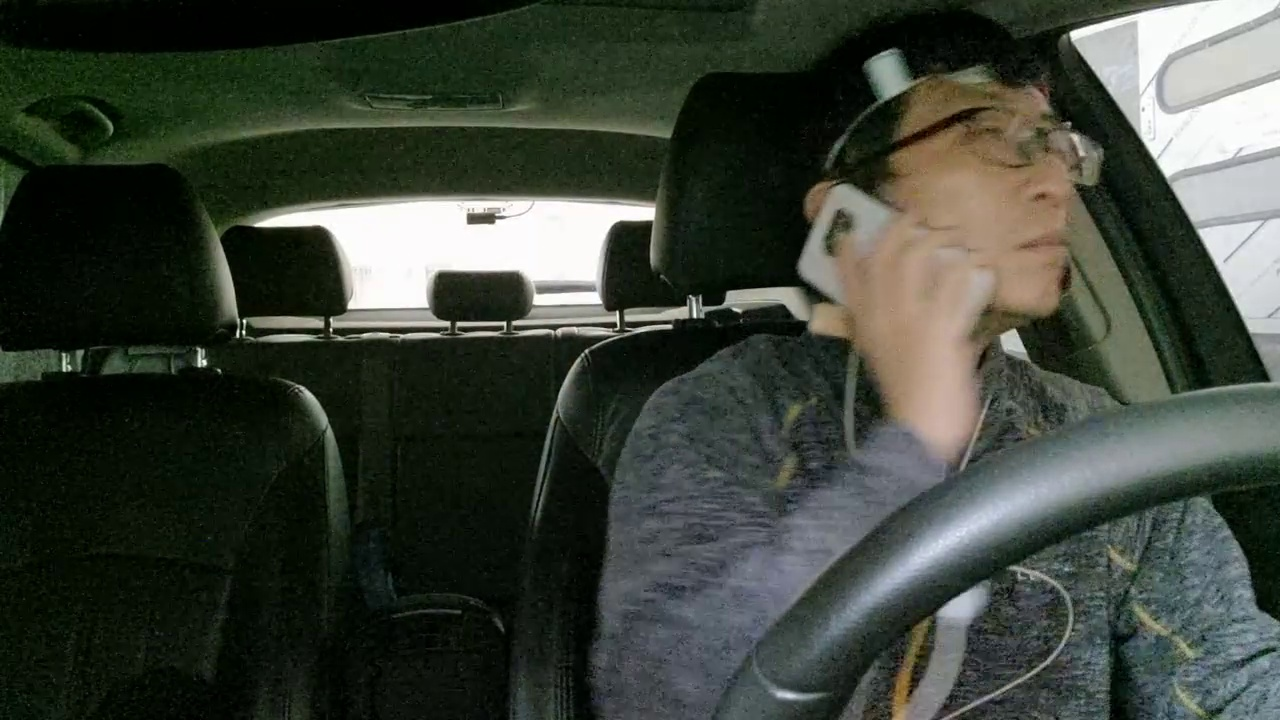phone: (776, 162, 1004, 380)
